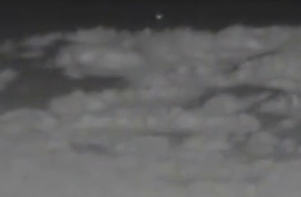Target: (156, 16, 161, 19)
